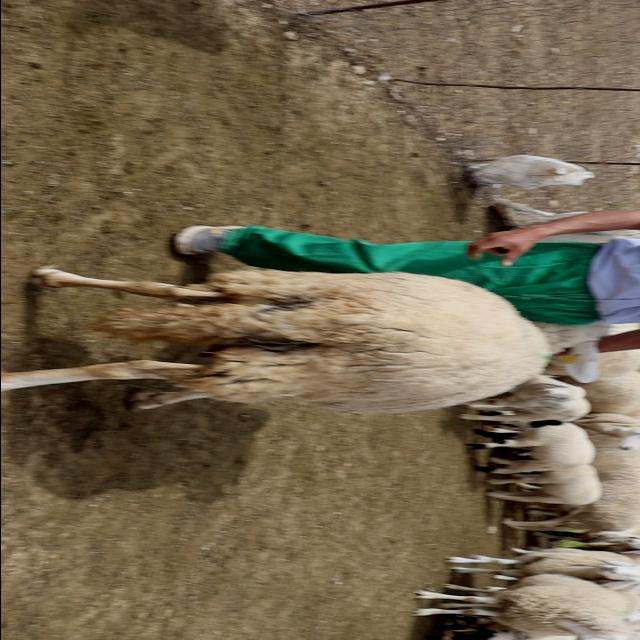Score_3: (1, 266, 551, 414)
